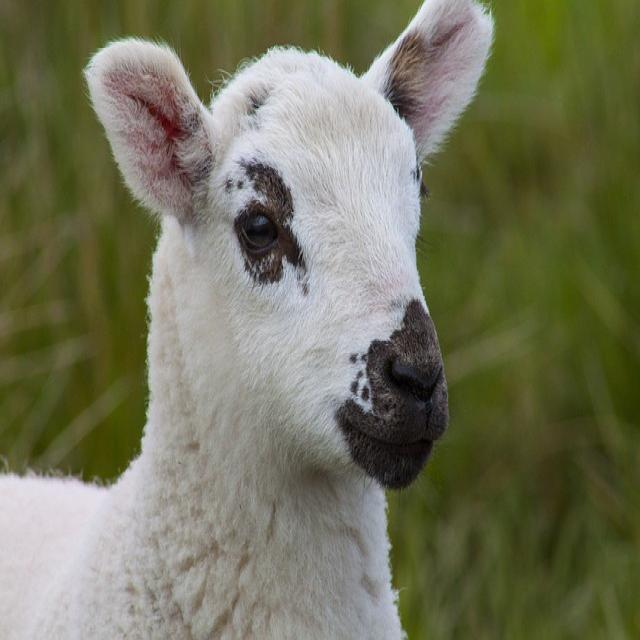goat: (0, 0, 496, 640)
